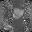people: (12, 8, 24, 19)
